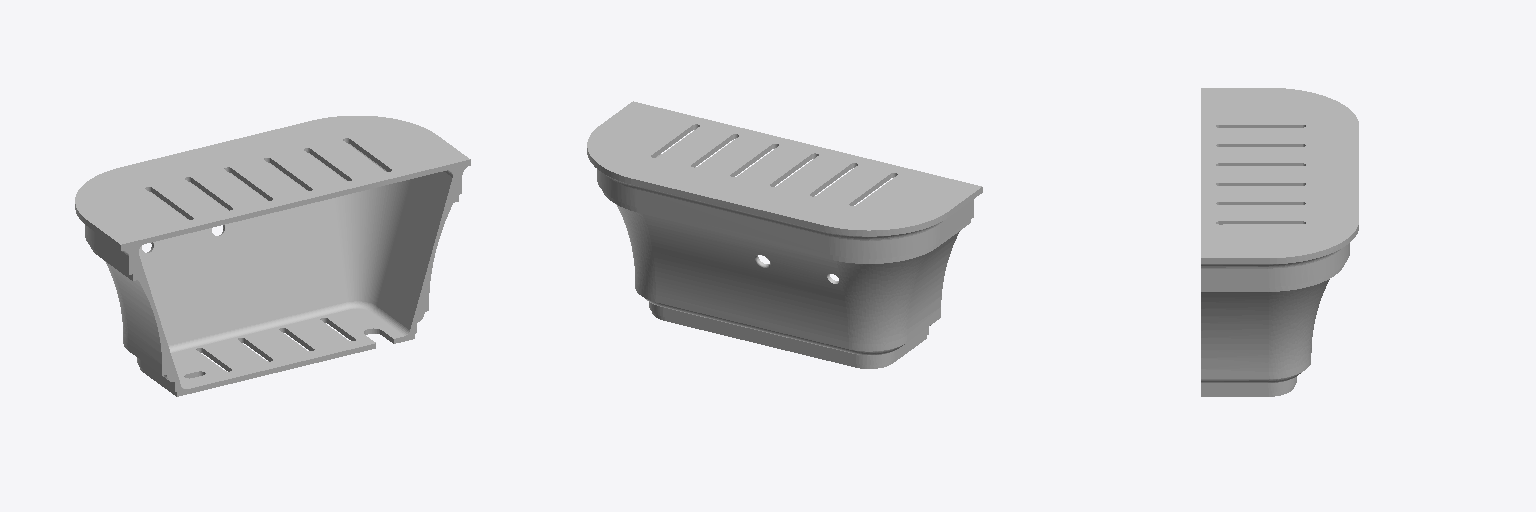
The model's file is anchor.obj.
The picture shows the model from 3 angles: view 1: azimuth 30°, elevation 25°; view 2: azimuth 150°, elevation 25°; view 3: azimuth 270°, elevation 25°; orthographic projection.
Visible parts, largest first — view 1: anchor_model; view 2: anchor_model; view 3: anchor_model.
Boxes of the visible parts, box(x1,y1,x2,y2) form: anchor_model: box(75, 116, 470, 396); anchor_model: box(587, 101, 982, 368); anchor_model: box(1201, 88, 1358, 396).
Bounding box in the file's own units: 212 × 96 × 83.36.